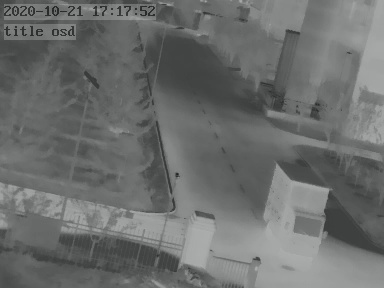vehicle: (261, 158, 330, 254)
